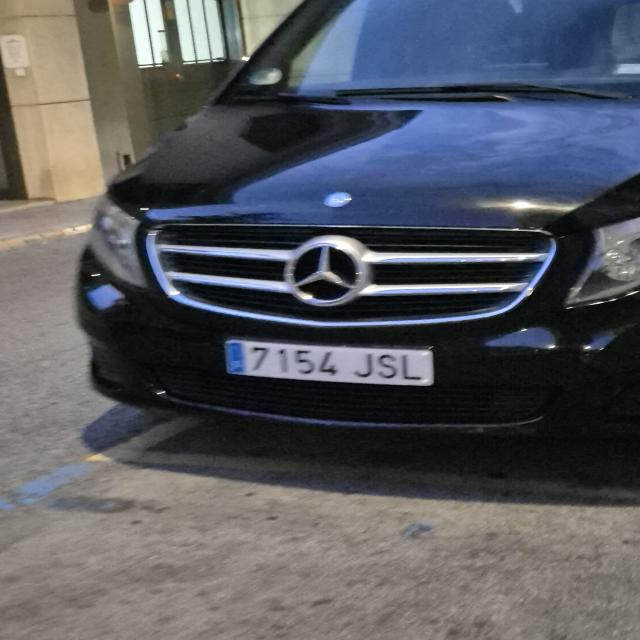license_plate-34Td: (225, 340, 433, 387)
